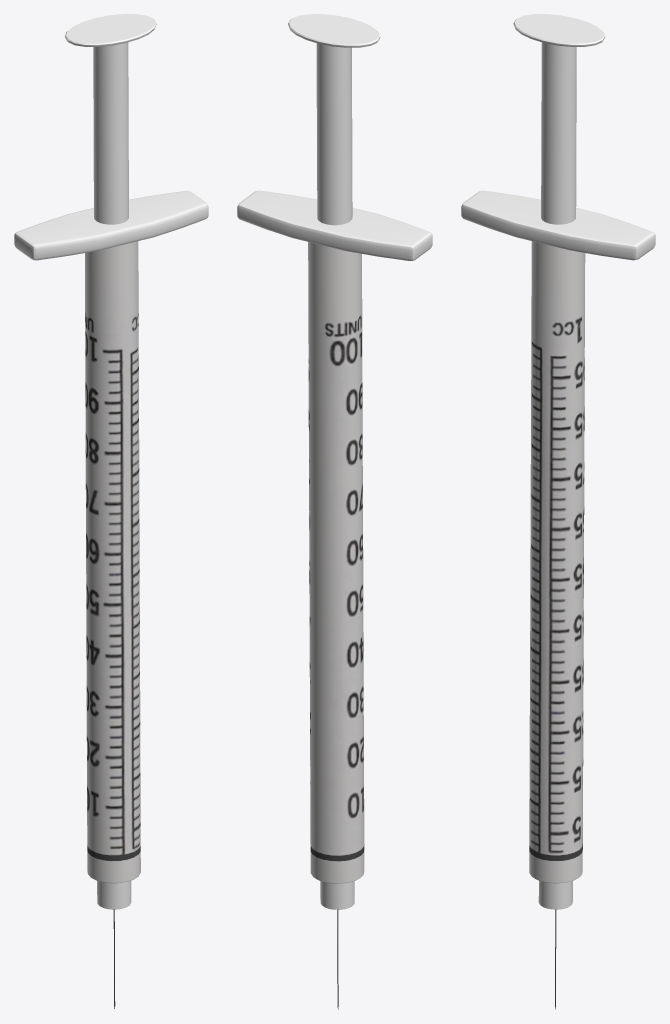
File: insolin.glb
3 views of the same model, side by side, from view 1: azimuth 30°, elevation 25°; view 2: azimuth 150°, elevation 25°; view 3: azimuth 330°, elevation 25° (orthographic).
Visible parts, largest first — view 1: syringe_v1_combined_mesh_result; view 2: syringe_v1_combined_mesh_result; view 3: syringe_v1_combined_mesh_result.
Part boxes in pixels (x1,y1,x2,y2): syringe_v1_combined_mesh_result: (14,14,208,1008); syringe_v1_combined_mesh_result: (237,14,432,1009); syringe_v1_combined_mesh_result: (461,14,655,1009).
Size of the model in its own units: 0.0463 by 0.2441 by 0.0149.
Materials: 1 (1 with a texture image).
